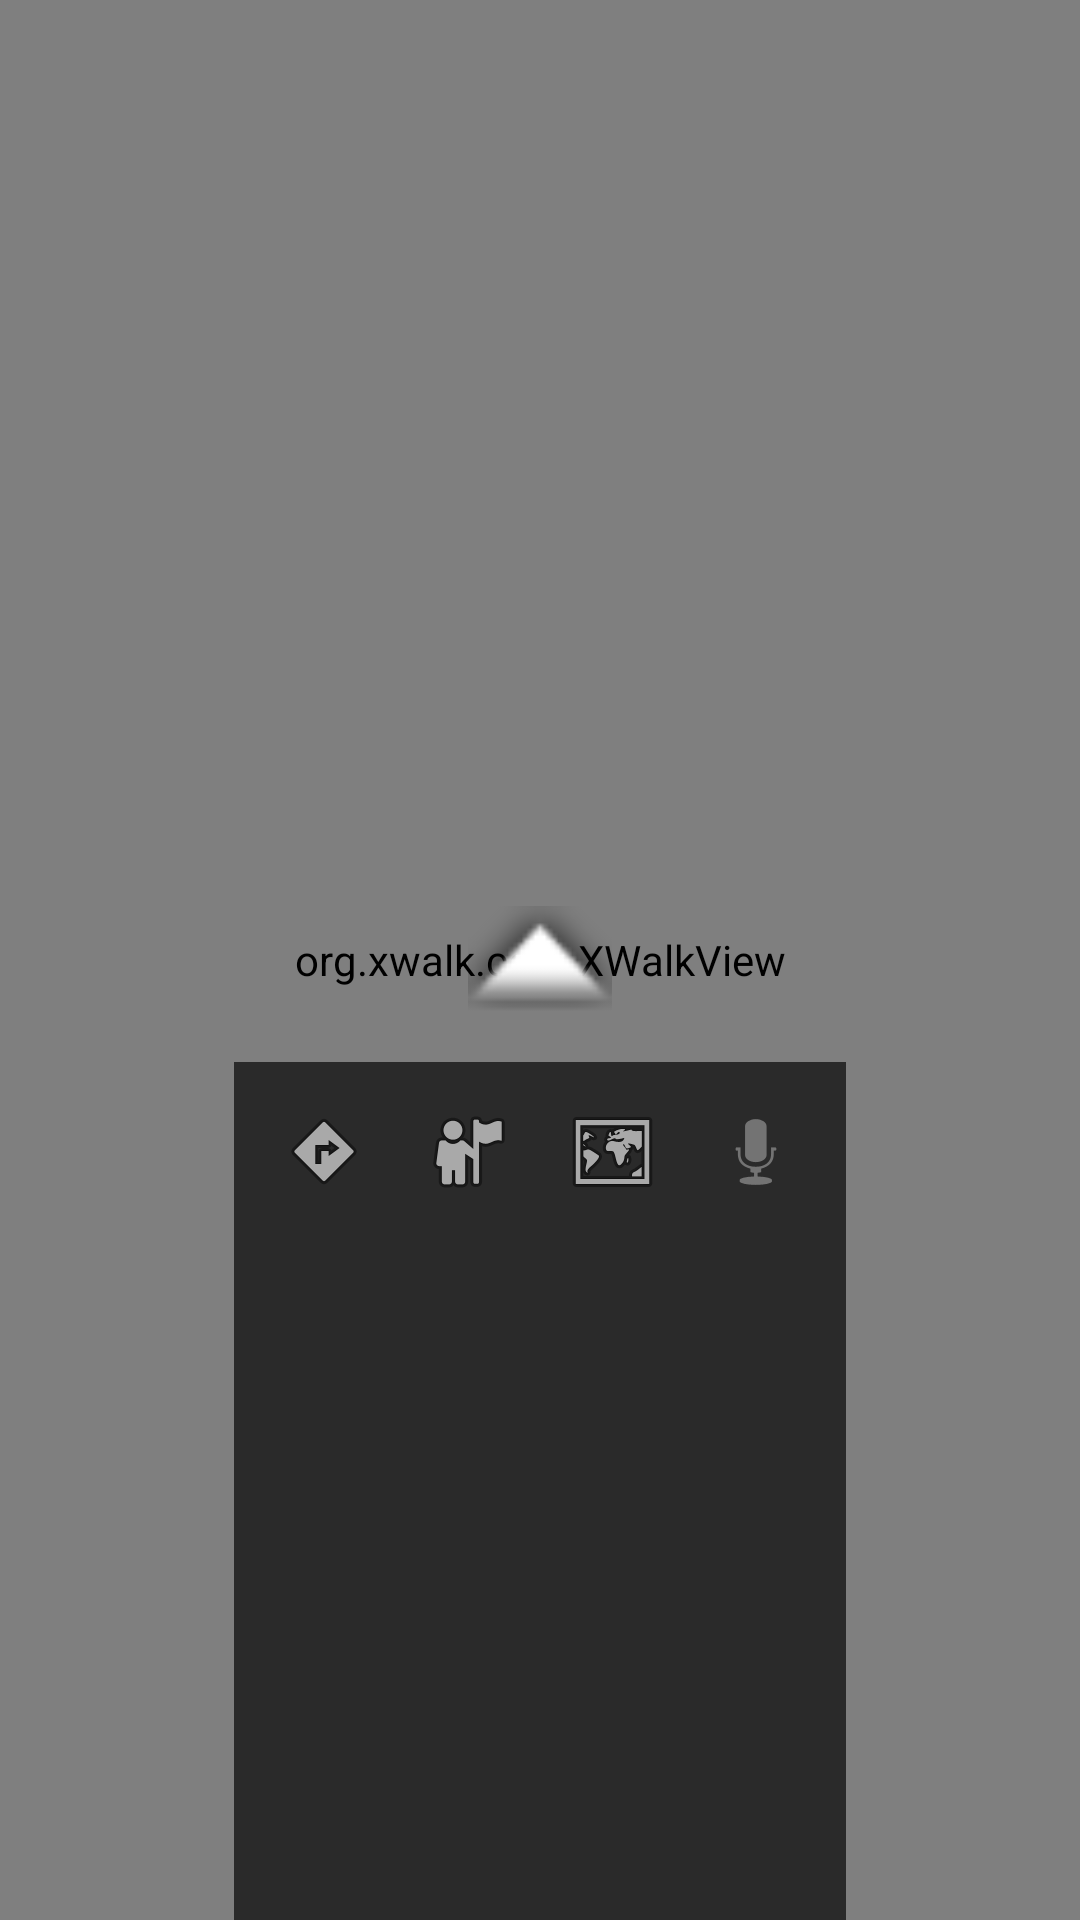

Named icons in this screenshot (1080w x 1920h) and their centers, (x=x, y=y):
Commande vocale: (x=755, y=1152)
mapmode: (x=612, y=1152)
